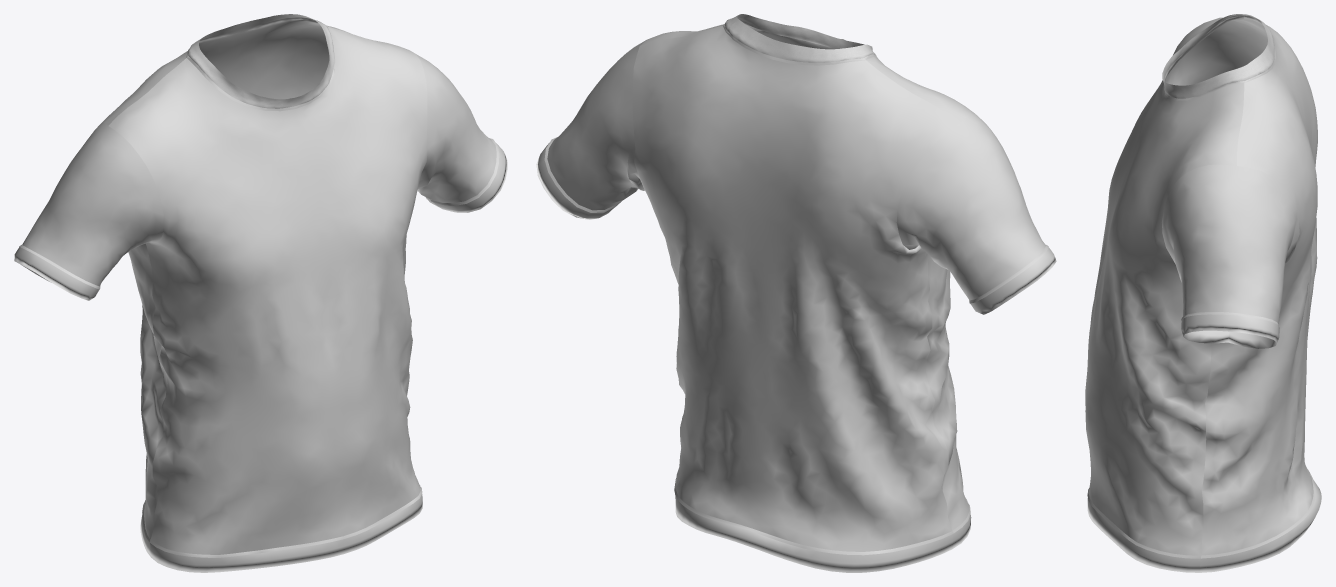
File: shirt.glb
3 views of the same model, side by side, from view 1: azimuth 30°, elevation 25°; view 2: azimuth 150°, elevation 25°; view 3: azimuth 270°, elevation 25° (orthographic). The views are drawn at different scales.
Visible parts, largest first — view 1: Cloth; view 2: Cloth; view 3: Cloth.
Part boxes in pixels (box(x1,y1,x2,y2)): Cloth: box(14, 14, 507, 572); Cloth: box(536, 14, 1056, 572); Cloth: box(1085, 14, 1321, 572).
Bounding box in the file's own units: 0.66 × 0.6322 × 0.2837.
Materials: 2 (1 with a texture image).
